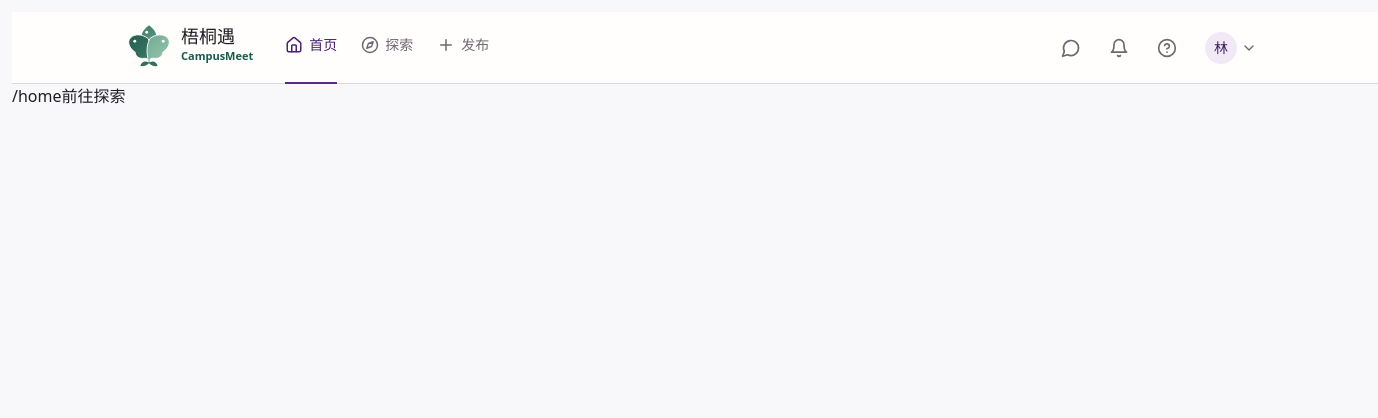
responsive application navigation › closes on menu activation and logs out to the login route
Click the button named "打开个人菜单" at x=1231, y=48, box [1199,26,1263,70]
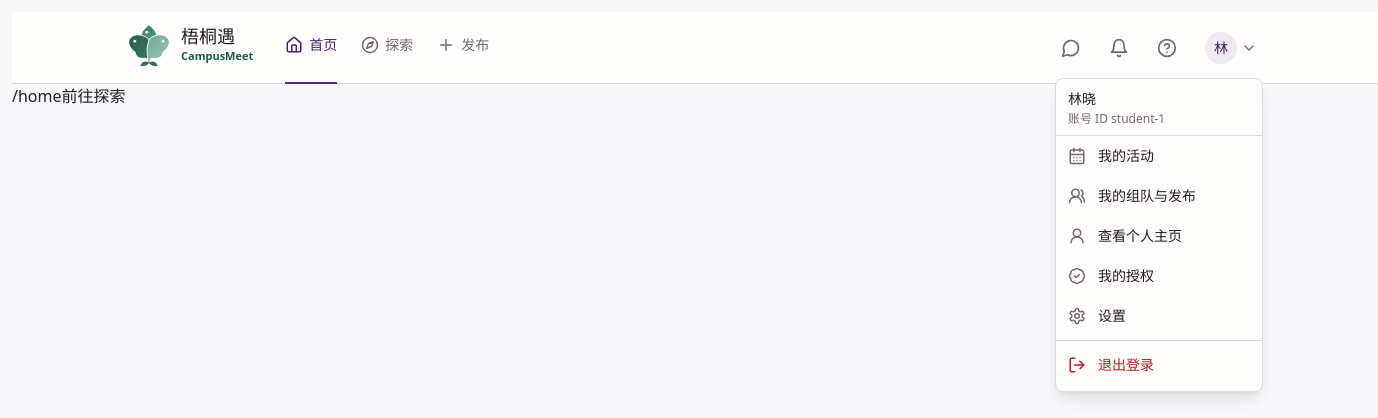
Click the menu item "退出登录" at x=1159, y=365, box [1056,345,1262,385]
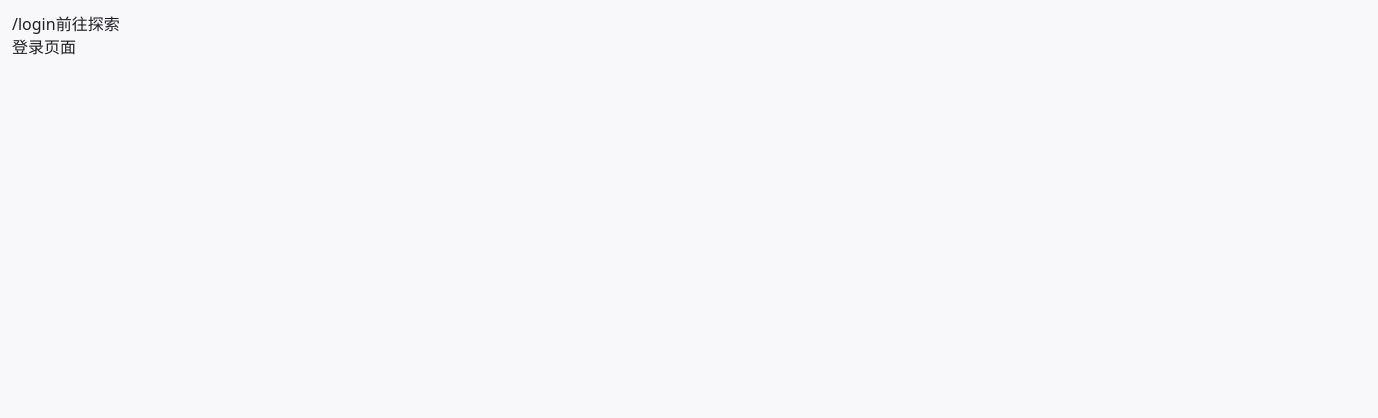
Expected: the heading "登录页面" is shown, [12,39,76,56]
Expected: the menu is gone
